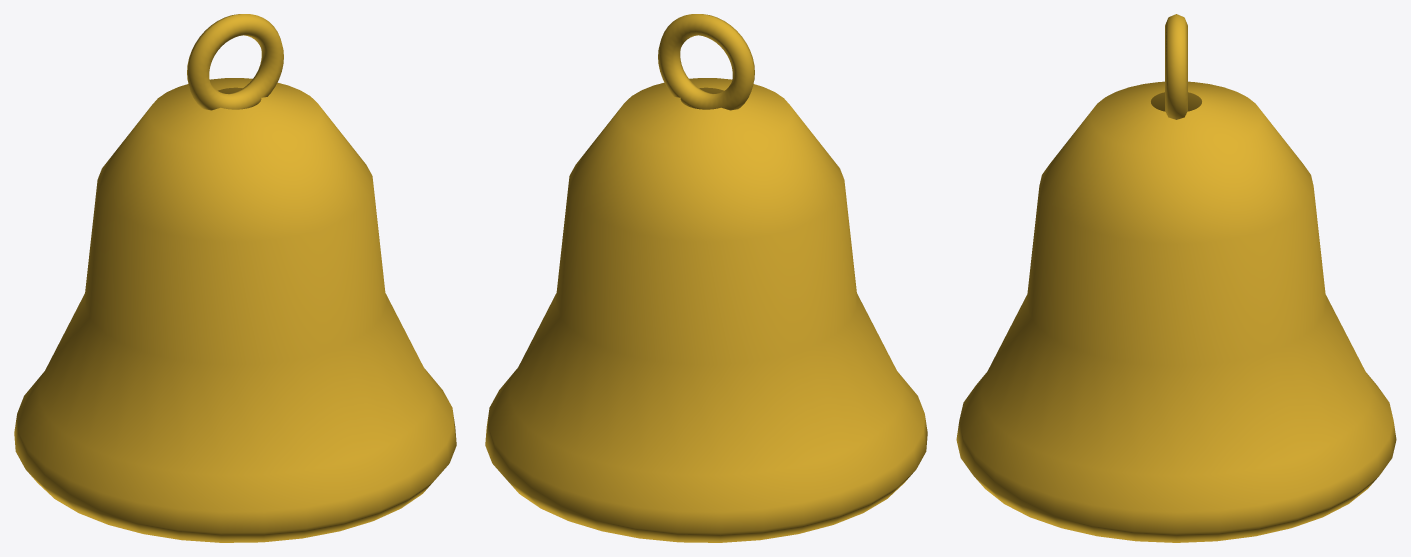
Rendered from bell.glb.
The picture shows the model from 3 angles, left to right: view 1: azimuth 30°, elevation 25°; view 2: azimuth 150°, elevation 25°; view 3: azimuth 270°, elevation 25°; orthographic projection.
Parts seen in each view (by area): view 1: bell; view 2: bell; view 3: bell.
Part boxes in pixels (x1,y1,x2,y2): bell: (14,14,456,542); bell: (485,14,927,542); bell: (956,14,1396,542).
Bounding box in the file's own units: 0.308 × 0.347 × 0.308.
